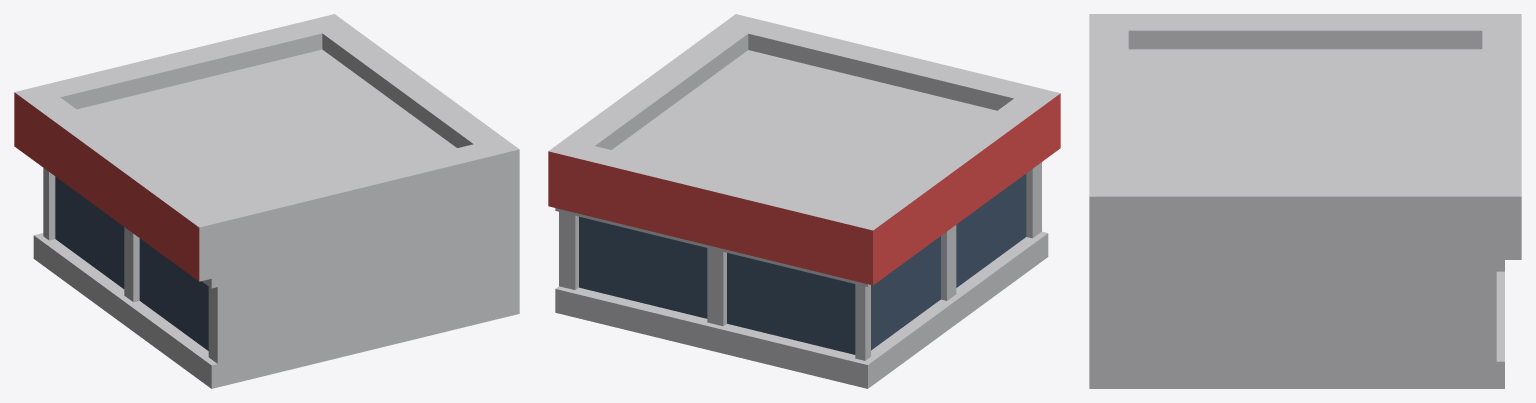
The model's file is pitsOfficeCorner.obj.
The picture shows the model from 3 angles, left to right: view 1: azimuth 30°, elevation 25°; view 2: azimuth 150°, elevation 25°; view 3: azimuth 270°, elevation 25°; orthographic projection. The views are drawn at different scales.
Visible parts, largest first — view 1: pitsOfficeCorner; view 2: pitsOfficeCorner; view 3: pitsOfficeCorner.
Part boxes in pixels (left/top/right/bottom): pitsOfficeCorner: left=14, top=14, right=519, bottom=388; pitsOfficeCorner: left=548, top=14, right=1060, bottom=388; pitsOfficeCorner: left=1089, top=14, right=1521, bottom=388.
Bounding box in the file's own units: 1.04 × 0.51 × 1.04.
